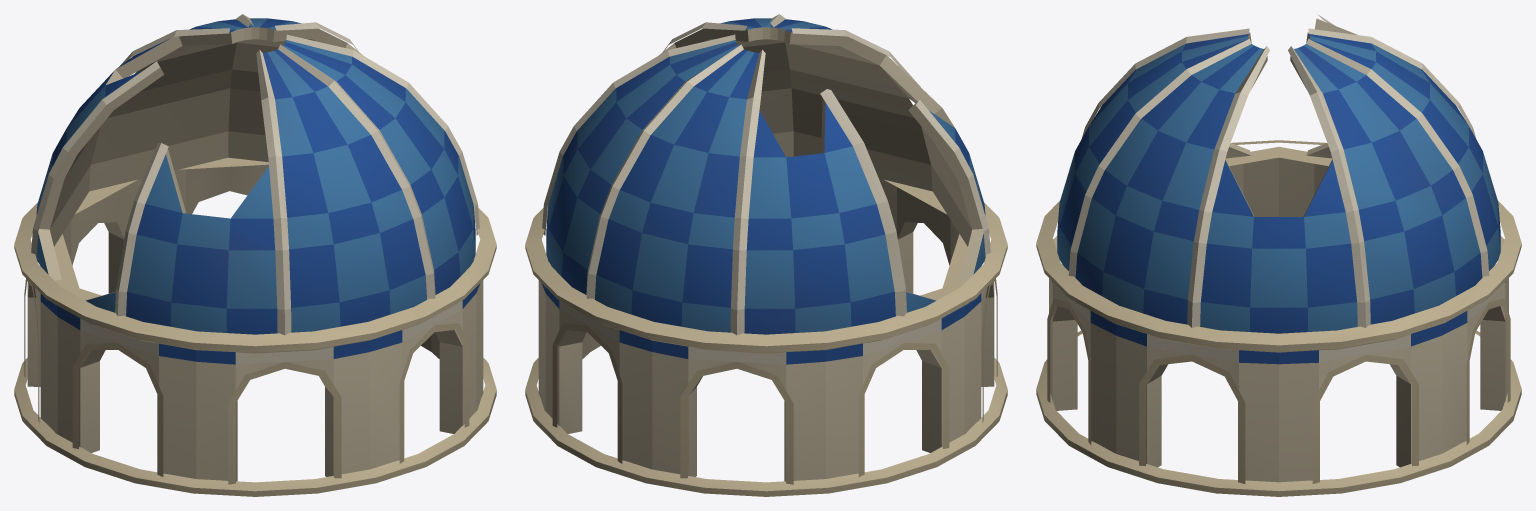
Rendered from dome.ruin_8.blue.glb.
3 renders of one model, left to right at view 1: azimuth 30°, elevation 25°; view 2: azimuth 150°, elevation 25°; view 3: azimuth 270°, elevation 25°, orthographic.
Visible parts, largest first — view 1: dome_ruin_8_blue; view 2: dome_ruin_8_blue; view 3: dome_ruin_8_blue.
Boxes of the visible parts, box(x1,y1,x2,y2) form: dome_ruin_8_blue: box(14, 14, 496, 496); dome_ruin_8_blue: box(525, 14, 1007, 496); dome_ruin_8_blue: box(1036, 14, 1521, 496).
Size of what is drawn, in the model's own units: 7.6 by 6.23 by 7.6.
